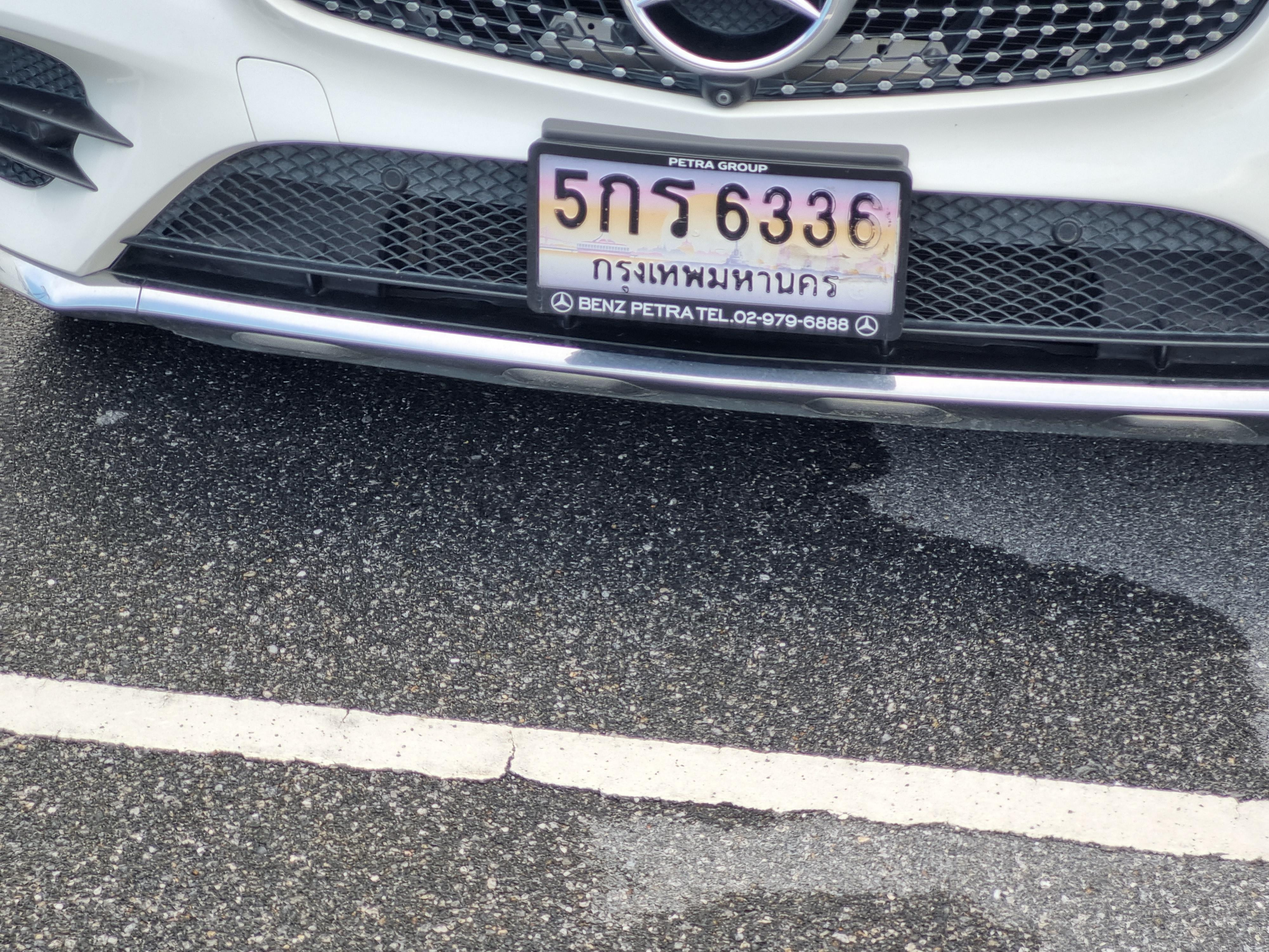license-plate: (524, 124, 905, 339)
